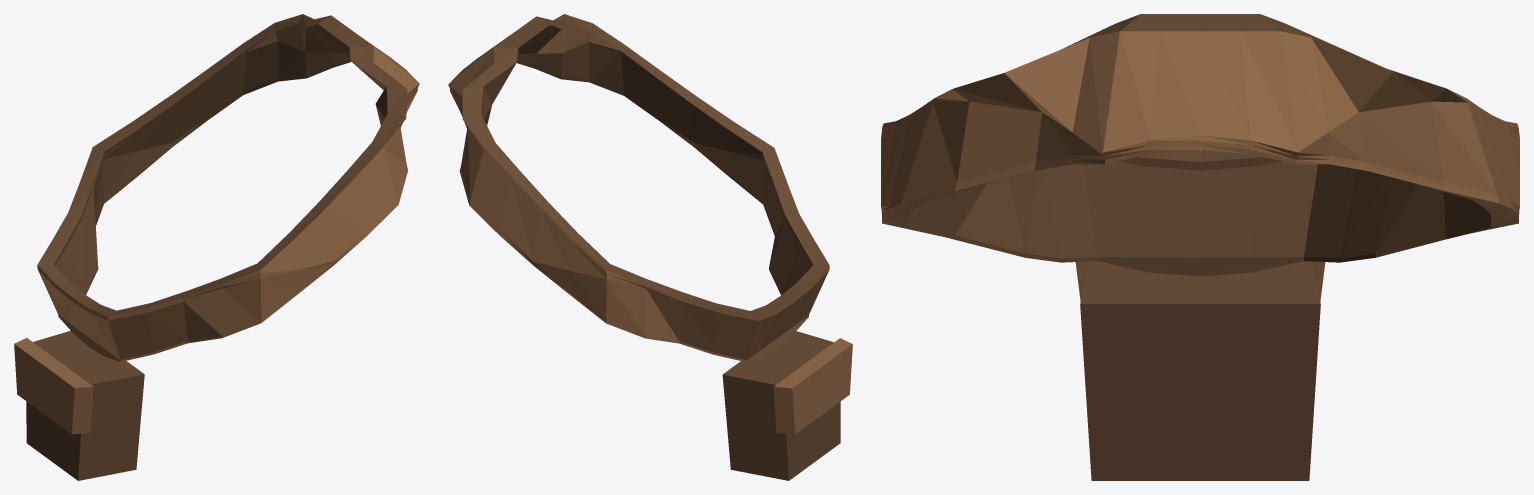
File: person_fat_bandolier_overvest.obj
The picture shows the model from 3 angles, left to right: view 1: azimuth 30°, elevation 25°; view 2: azimuth 150°, elevation 25°; view 3: azimuth 270°, elevation 25°; orthographic projection. The views are drawn at different scales.
Bounding box in the file's own units: 0.6644 × 0.65 × 0.5574.
